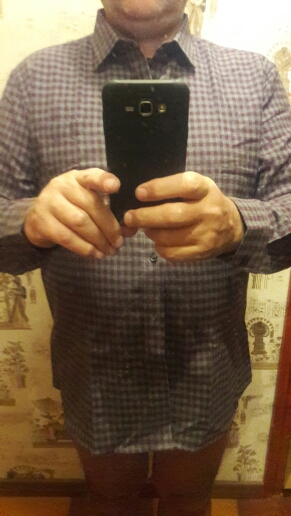shirts: (9, 14, 291, 434)
